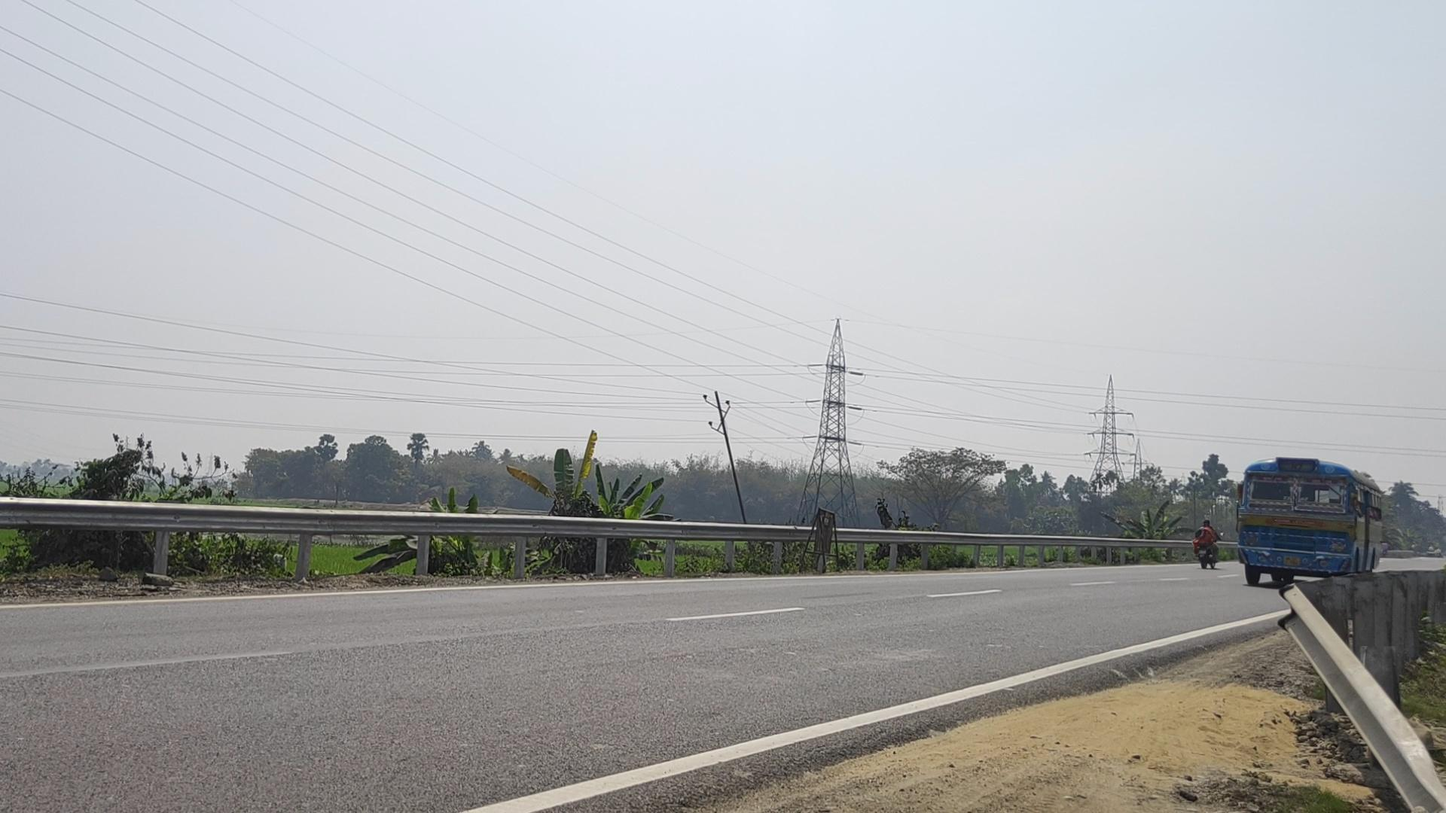Bus: (1236, 456, 1384, 589)
bike: (1193, 519, 1225, 569)
